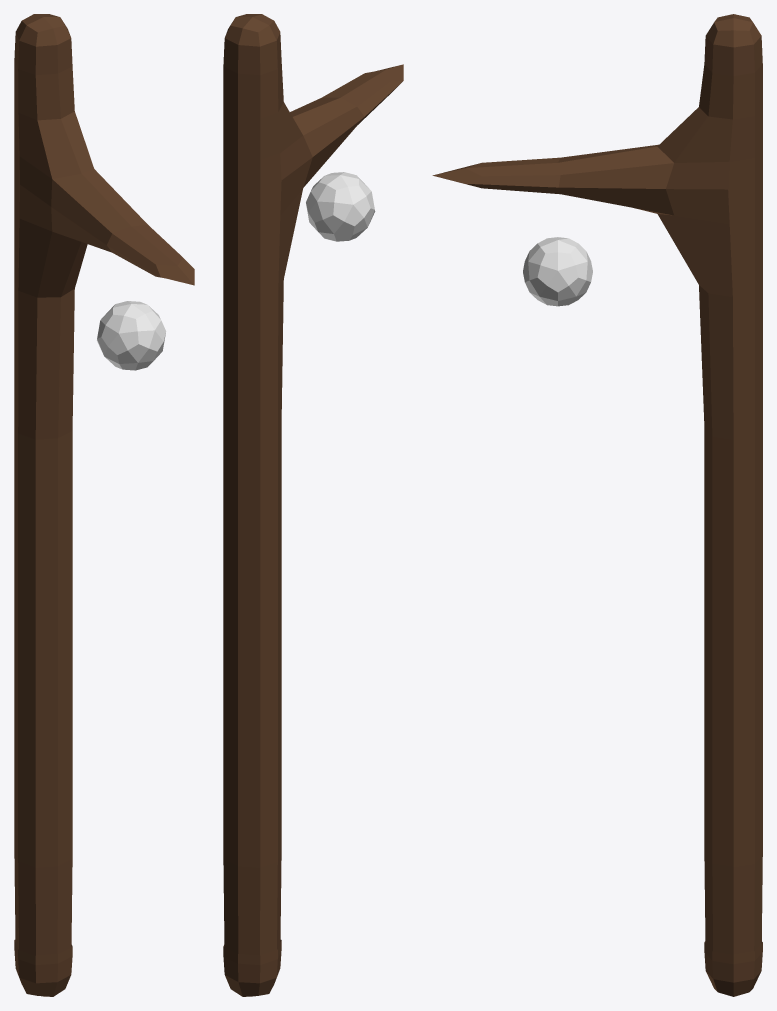
The model's file is lamp.fbx.
3 renders of one model, left to right at view 1: azimuth 30°, elevation 25°; view 2: azimuth 150°, elevation 25°; view 3: azimuth 270°, elevation 25°, orthographic.
Visible parts, largest first — view 1: Cube; view 2: Cube; view 3: Cube.
Boxes of the visible parts, x1,y1,x2,y2 form: Cube: (14,14,194,996); Cube: (223,14,403,996); Cube: (432,14,762,996).
Bounding box in the file's own units: 109 × 1692 × 519.
